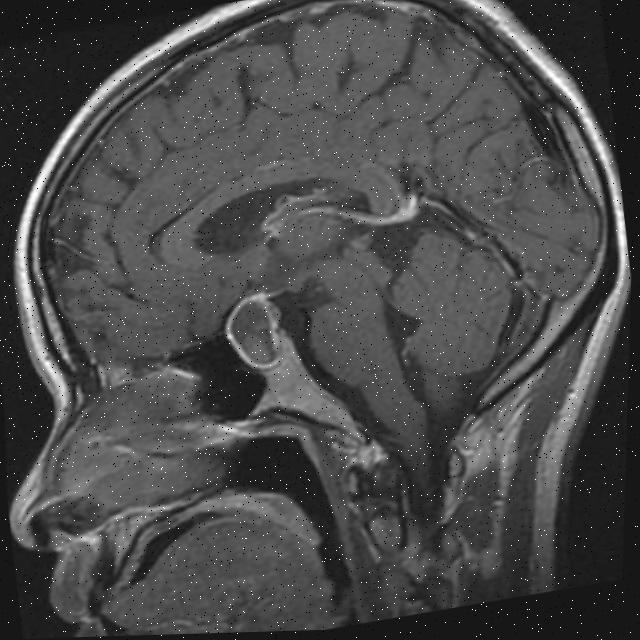Pituitary: (218, 288, 288, 373)
